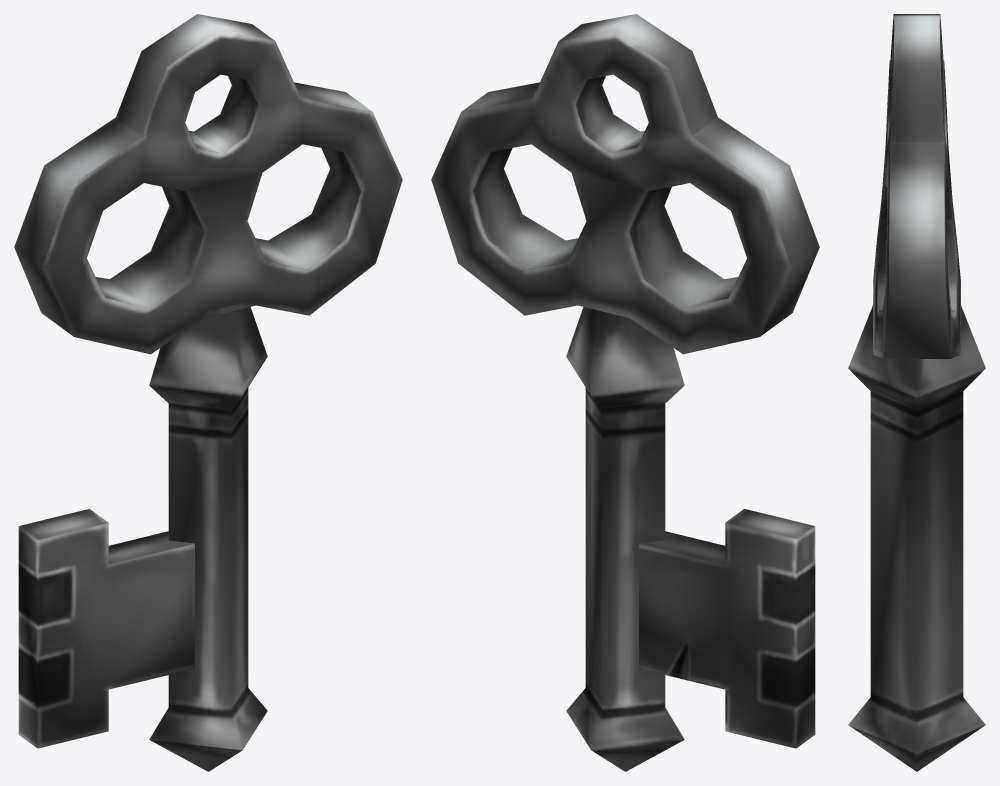
File: key.FBX
3 views of the same model, side by side, from view 1: azimuth 30°, elevation 25°; view 2: azimuth 150°, elevation 25°; view 3: azimuth 270°, elevation 25° (orthographic).
Parts seen in each view (by area): view 1: key; view 2: key; view 3: key.
Boxes of the visible parts, box(x1,y1,x2,y2) form: key: box(14, 14, 402, 771); key: box(431, 14, 819, 771); key: box(848, 14, 985, 771).
Bounding box in the file's own units: 1.01 × 2 × 0.3309.
